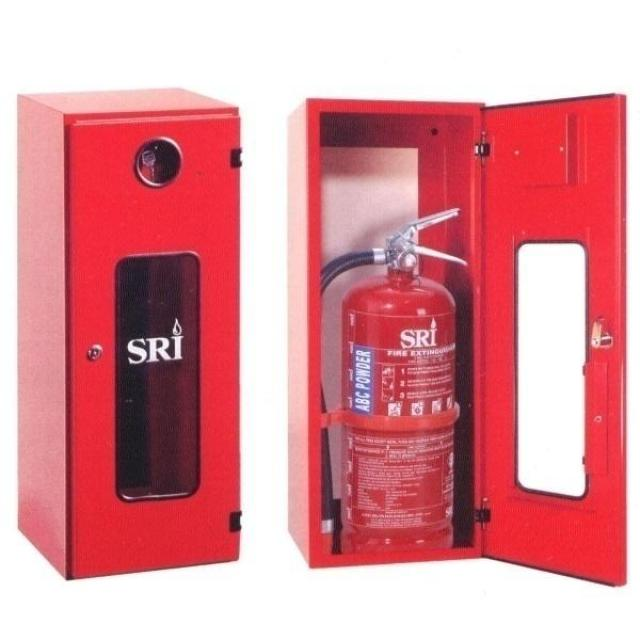fire_extinguisher: (297, 202, 473, 570)
